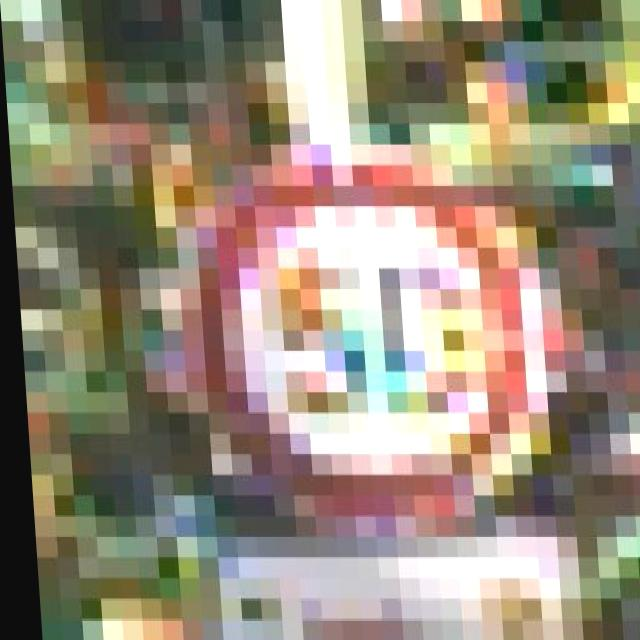Speed limit 50: (179, 144, 560, 536)
